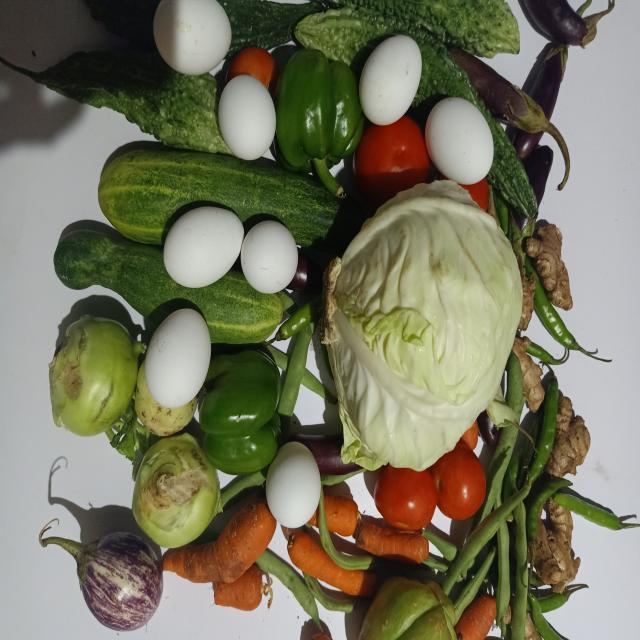Cabbage: (318, 177, 529, 482)
Capsicum: (276, 48, 367, 200)
Carrot: (162, 498, 278, 590)
Egg: (142, 300, 214, 413), (420, 90, 496, 192), (354, 32, 427, 129), (164, 207, 246, 291), (261, 436, 326, 532), (213, 72, 276, 163), (238, 217, 302, 300)
Eggplant: (32, 526, 168, 639)
Ginger: (521, 220, 575, 316)
Green Chilly: (550, 492, 640, 533)
Tomato: (430, 439, 489, 525), (374, 468, 439, 531)
Turnip: (46, 307, 146, 446), (131, 433, 223, 551)
